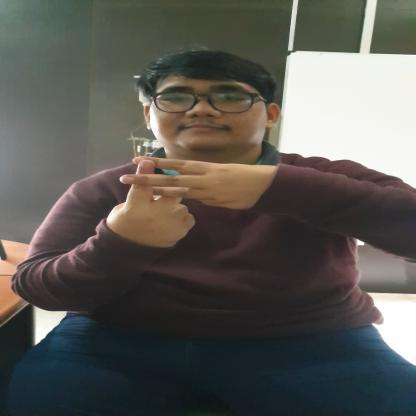B: (107, 151, 264, 253)
